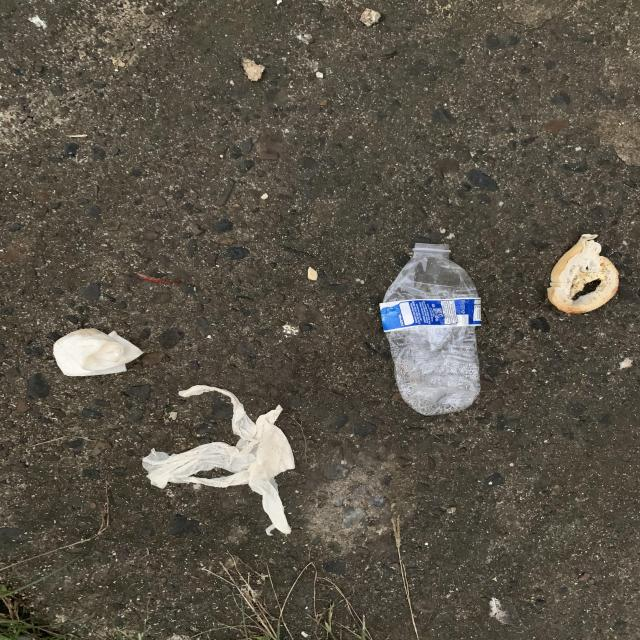litter: (142, 385, 295, 536), (379, 242, 481, 415), (53, 328, 143, 376), (379, 297, 481, 332)
